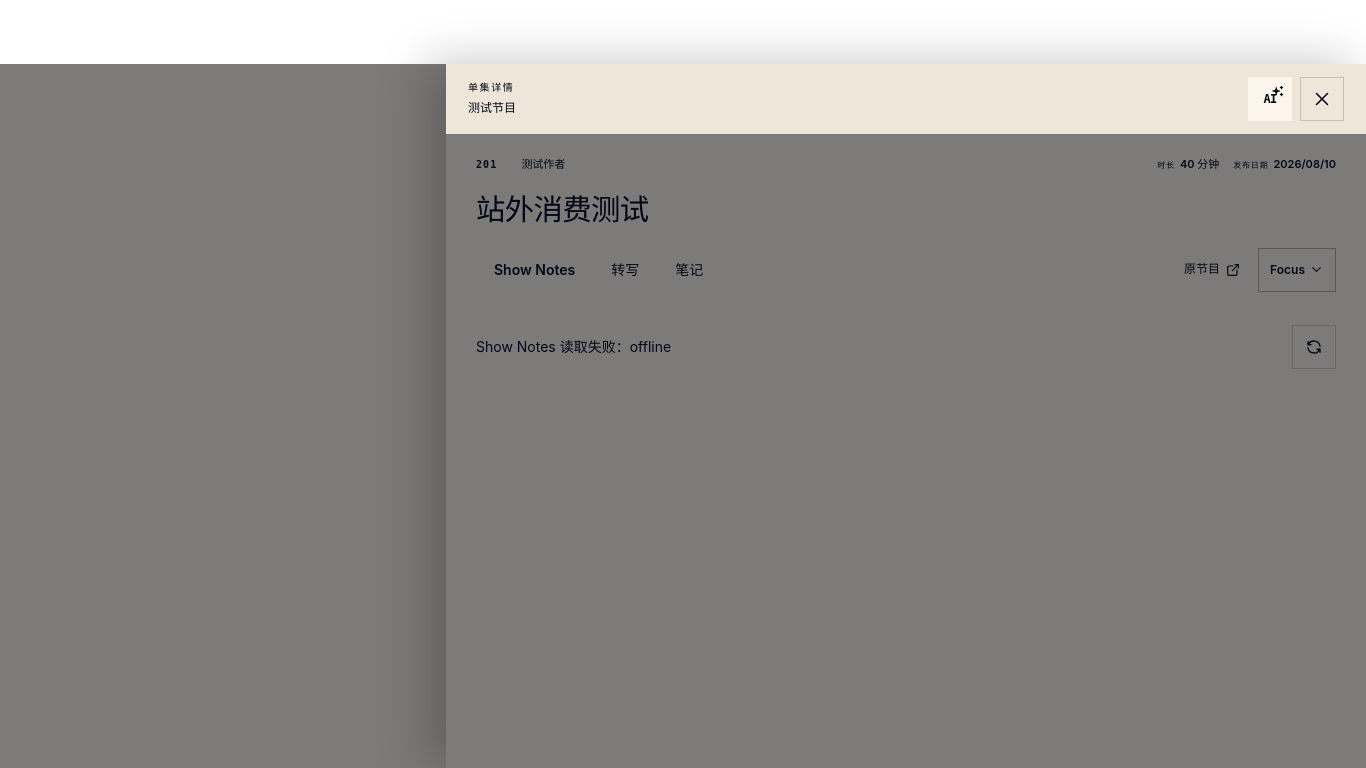
ConsumptionDetailPanel › keeps the detail usable when Show Notes fail and retries locally
Check: the text "Show Notes 读取失败：offline" is shown, box [476,335,671,358]
Check: the heading "站外消费测试" is shown, box [476,194,649,226]
Step 1. Click the button named "重试读取 Show Notes" → [1314, 347], box [1292,325,1336,369]
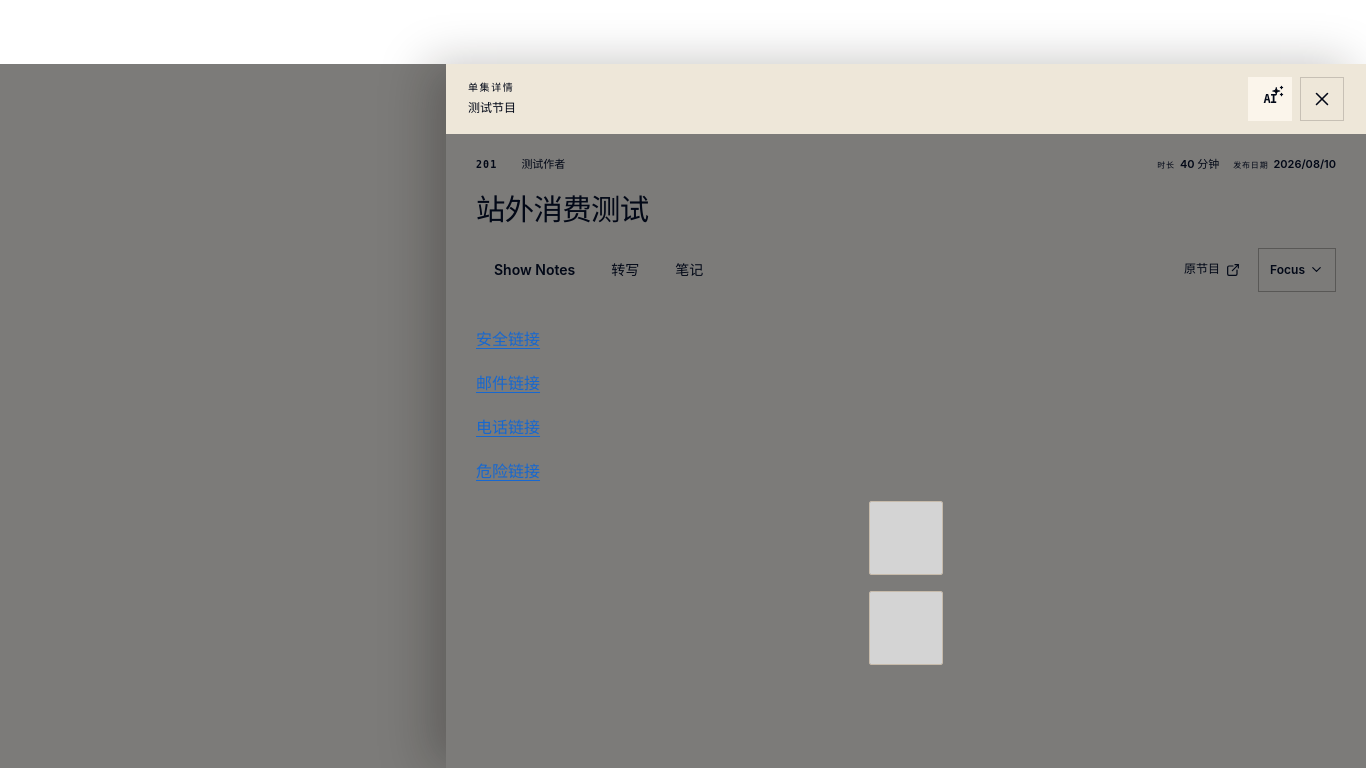
Check: the link "安全链接" is shown, box [476,329,540,349]
